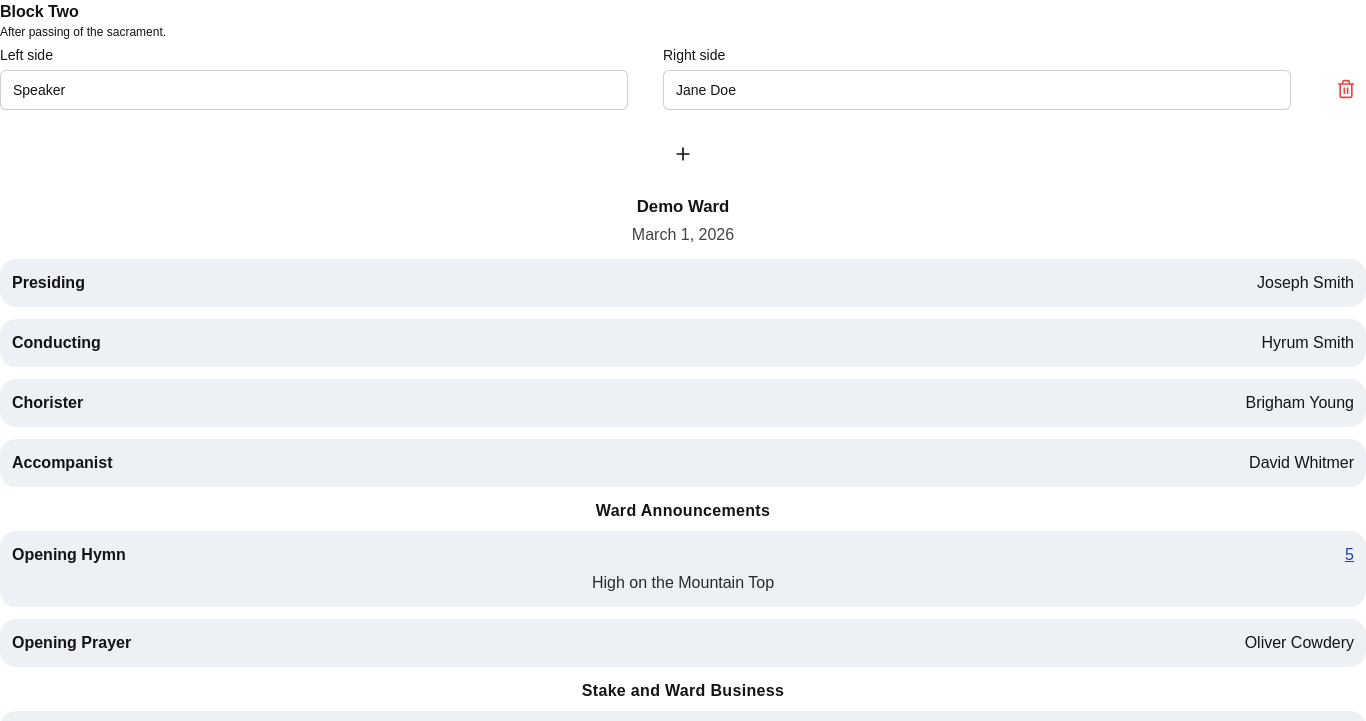
Test: Ward-facing layout integration › reflects added and removed block items in block two section
Click the 2nd button.
click(683, 154)  # box left=663, top=134, right=703, bottom=174
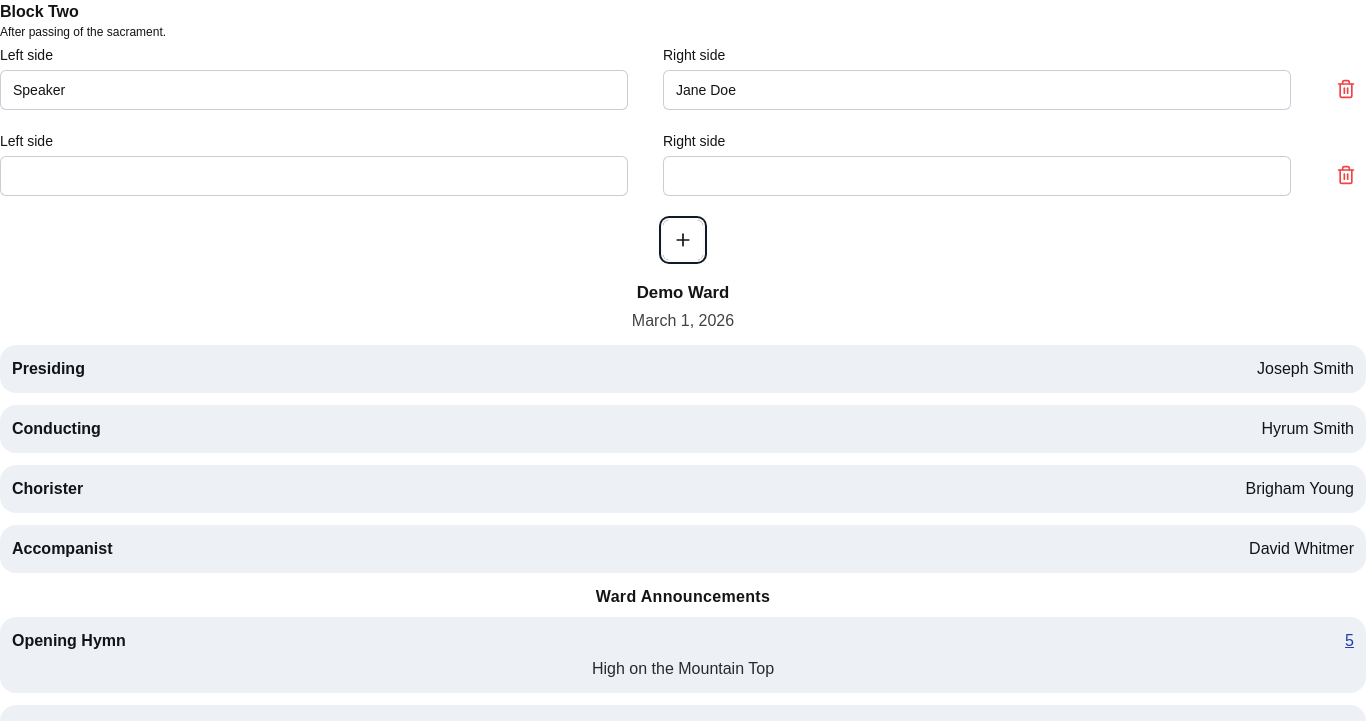
Type "Sustaining" into the 2nd field labelled "Left side".
click(314, 176); type("Sustaining")  # box left=0, top=156, right=628, bottom=196
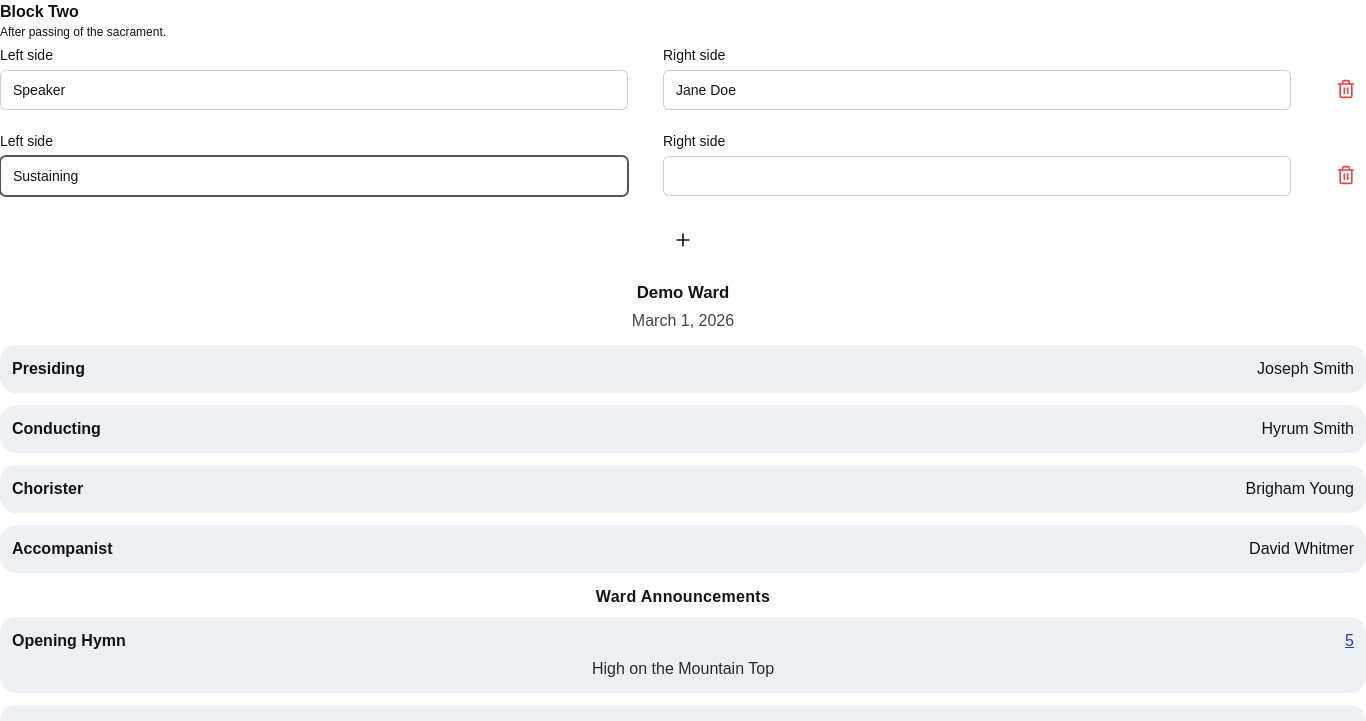
Type "John Smith" into the 2nd field labelled "Right side".
click(977, 176); type("John Smith")  # box left=663, top=156, right=1291, bottom=196
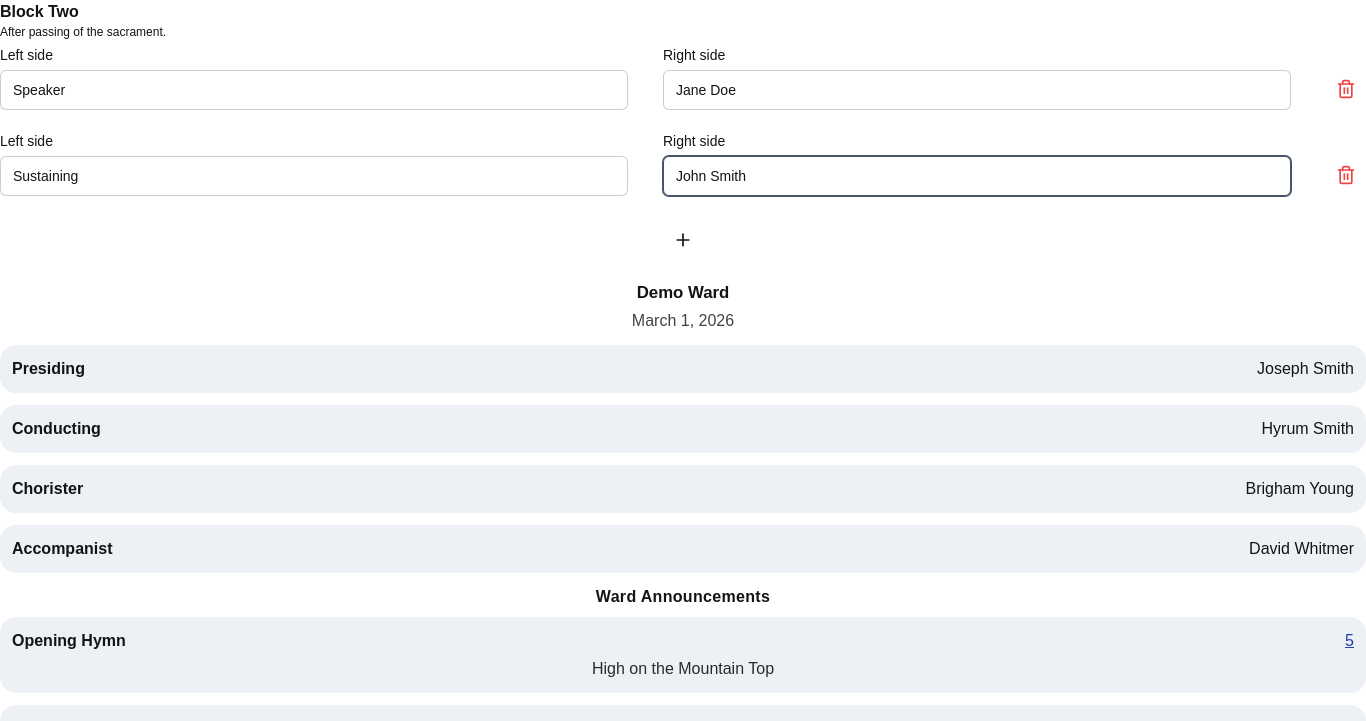
Click the 1st button.
click(1346, 89)  # box left=1326, top=69, right=1365, bottom=109
(page scrolled)
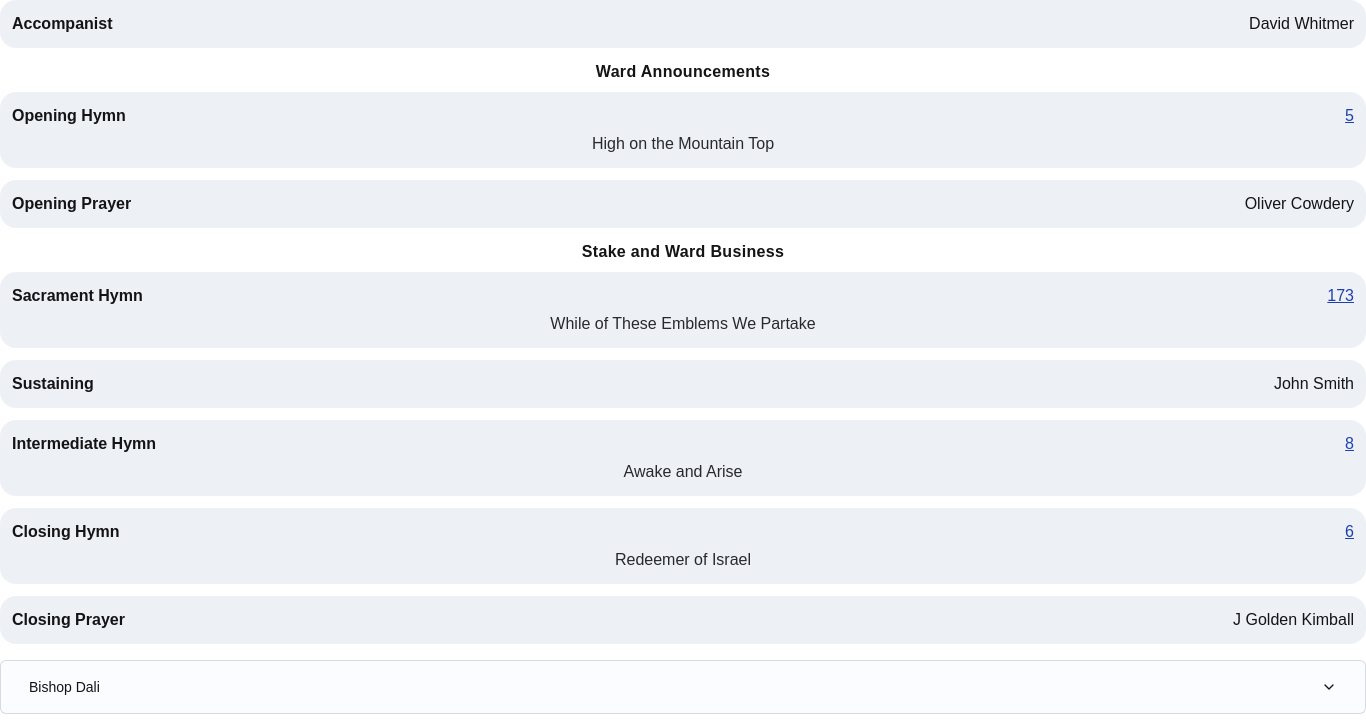
Now the text "John Smith" is shown, box left=1274, top=372, right=1354, bottom=396
